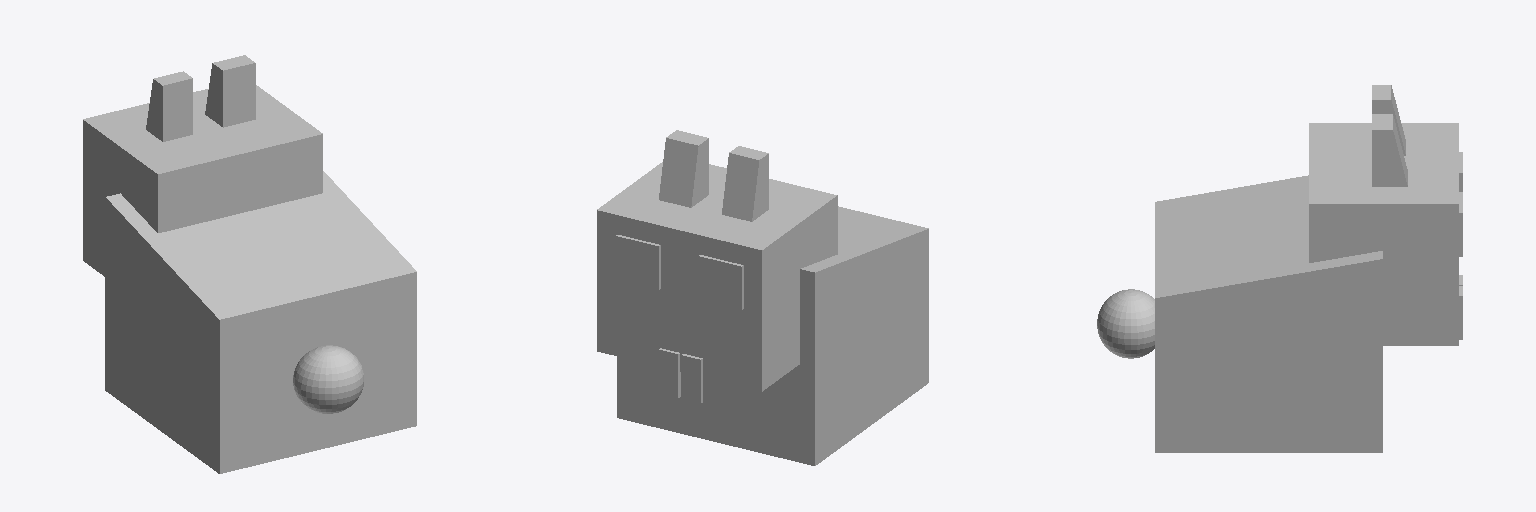
Rendered from Rabbit_Lowpoly_1.obj.
The picture shows the model from 3 angles: view 1: azimuth 30°, elevation 25°; view 2: azimuth 150°, elevation 25°; view 3: azimuth 270°, elevation 25°; orthographic projection.
Parts seen in each view (by area): view 1: Cube, Cube.001, Sphere; view 2: Cube.001, Cube, Cube.002_Cube.003, Cube.003_Cube.004, Cube.004_Cube.005, Cube.005_Cube.006; view 3: Cube, Cube.001, Sphere.
Boxes of the visible parts, box(x1,y1,x2,y2) form: Cube: box(105, 171, 416, 473); Cube.001: box(83, 55, 322, 276); Sphere: box(293, 345, 363, 413); Cube.001: box(597, 130, 837, 391); Cube: box(617, 206, 928, 465); Cube.002_Cube.003: box(699, 255, 743, 310); Cube.003_Cube.004: box(616, 235, 660, 289); Cube.004_Cube.005: box(681, 354, 702, 403); Cube.005_Cube.006: box(659, 348, 680, 397); Cube: box(1155, 175, 1382, 452); Cube.001: box(1309, 85, 1458, 345); Sphere: box(1097, 289, 1154, 358).
Size of the model in its own units: 2 by 2.87 by 3.21.